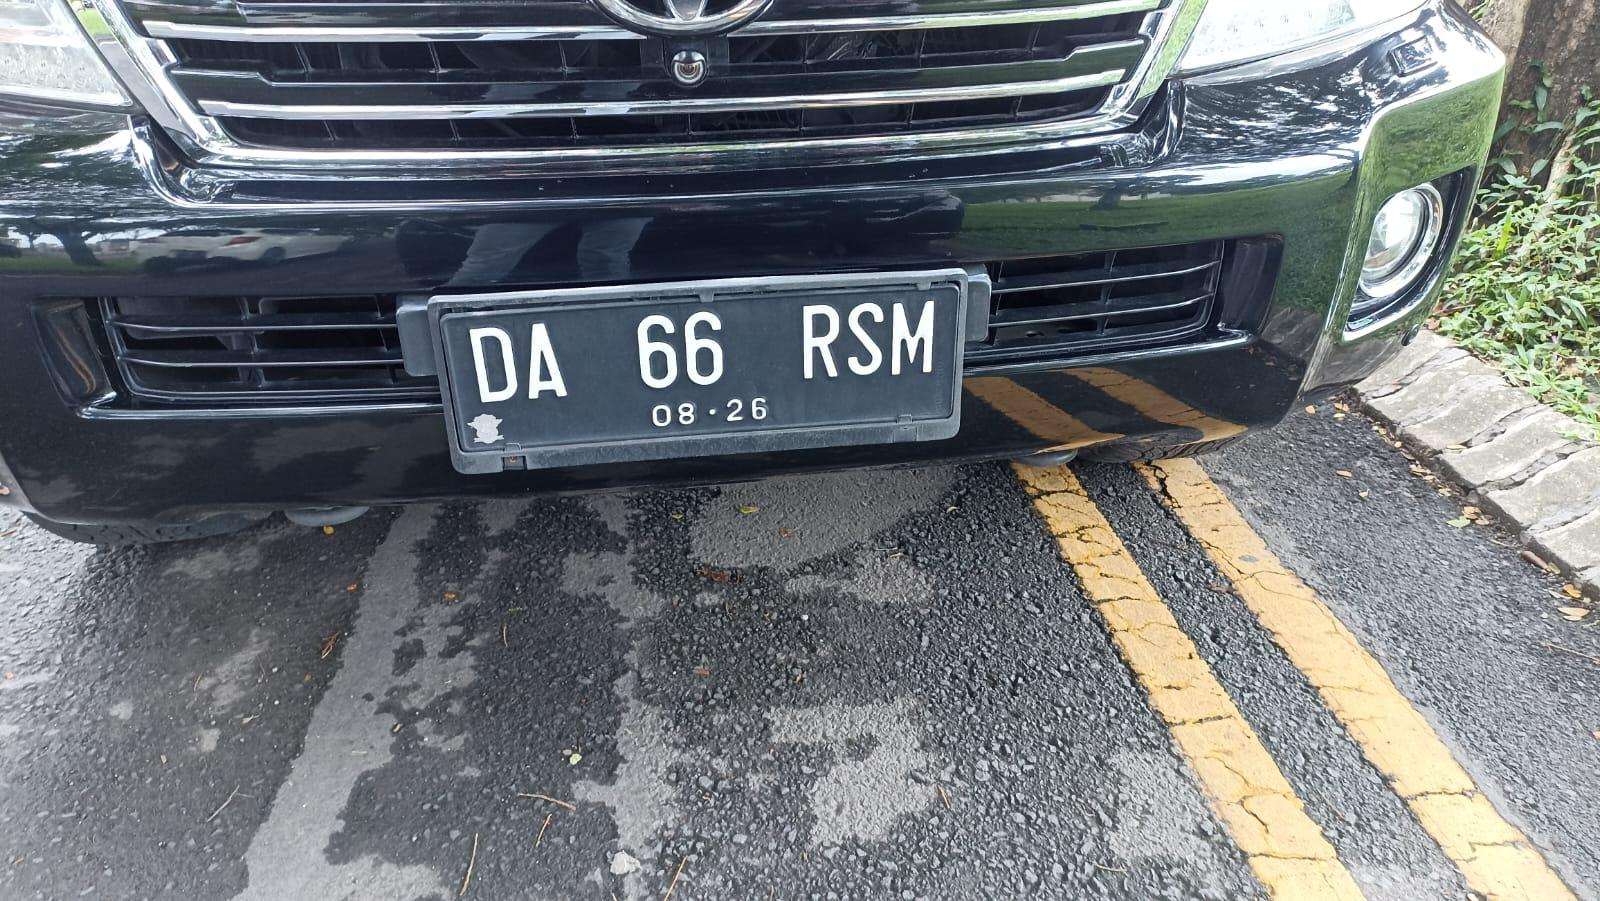plat: (429, 271, 963, 475)
